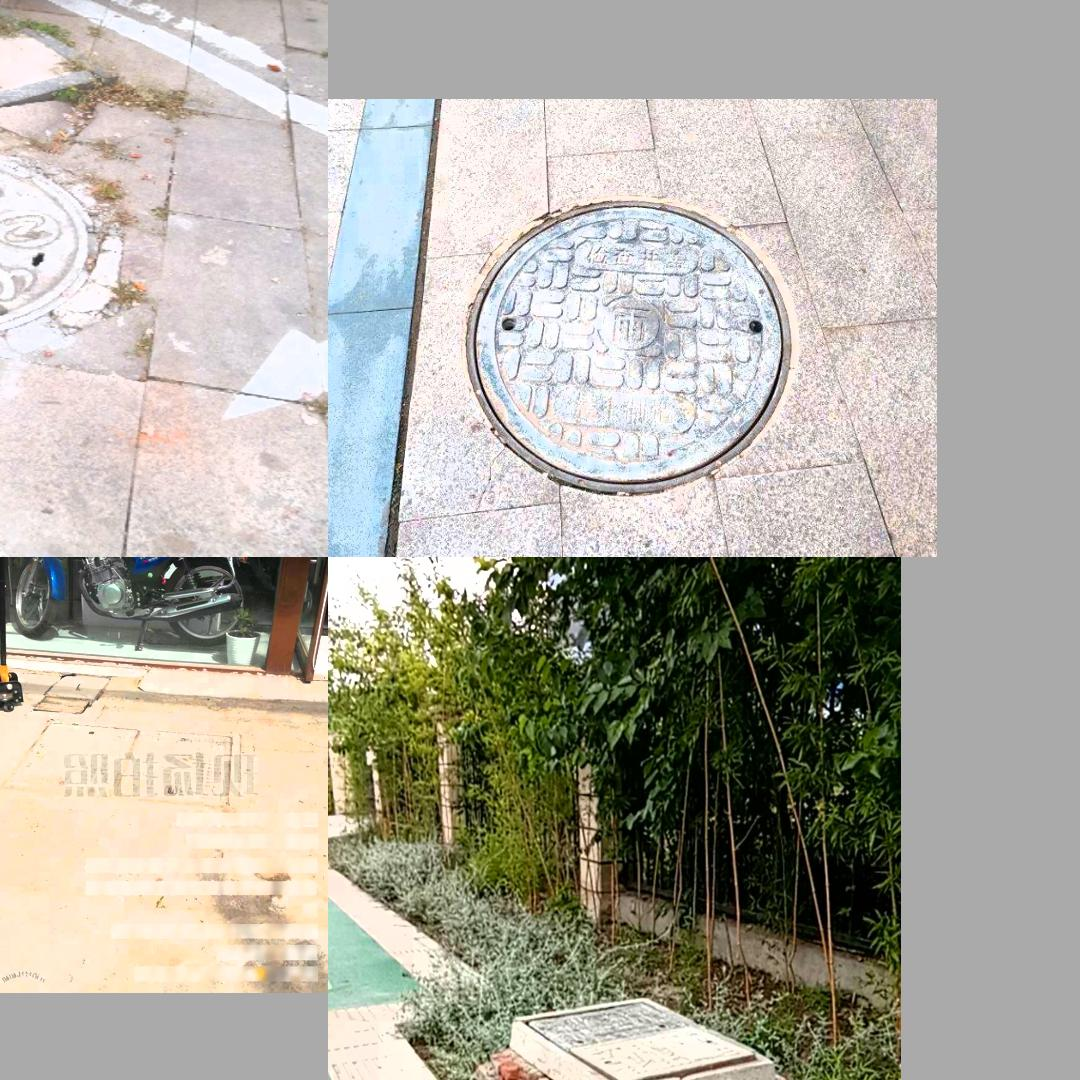good: (458, 188, 804, 506), (515, 996, 772, 1080), (3, 728, 244, 808), (0, 153, 101, 338)
